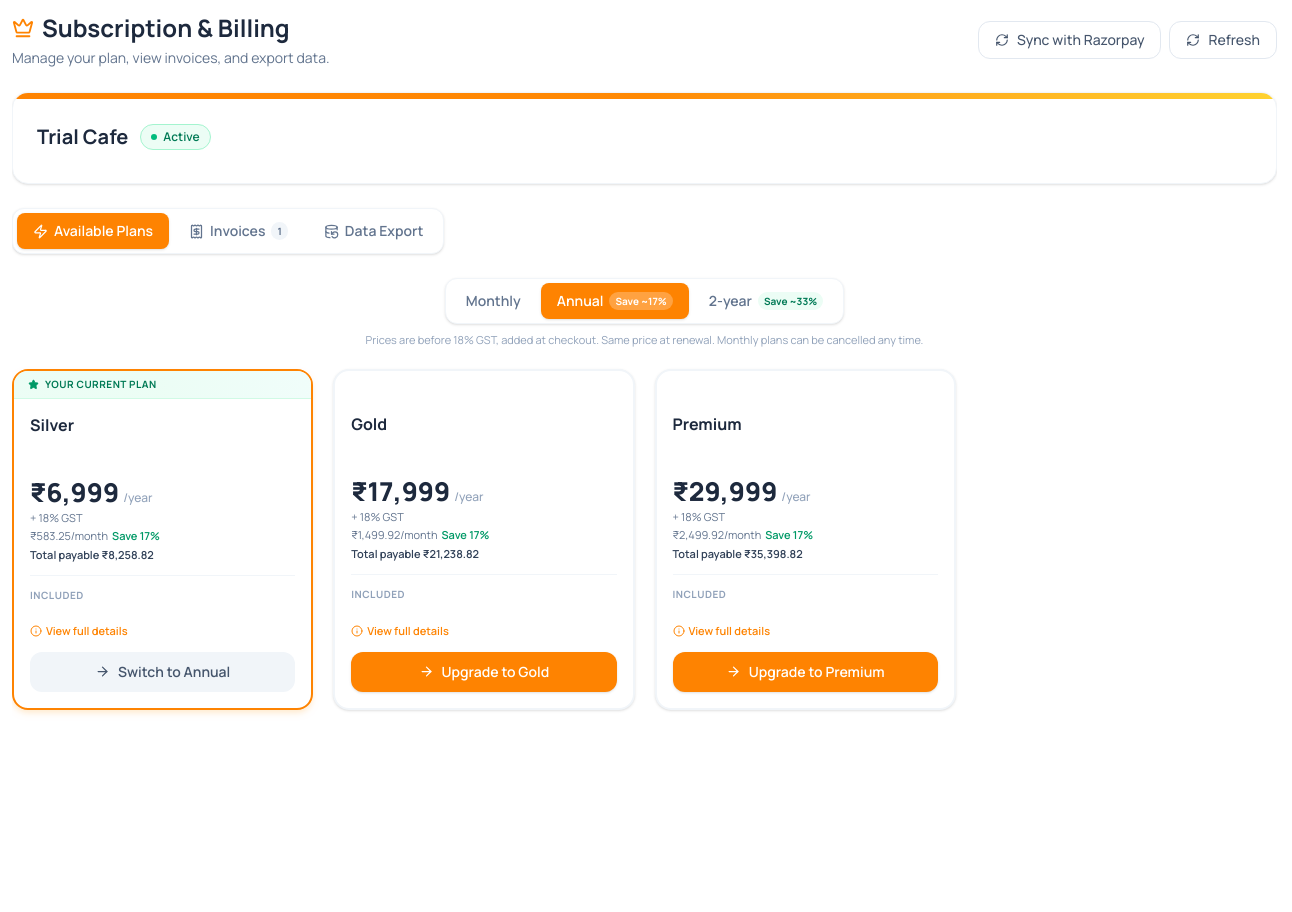
Test: invoices › list shows cycle, base, GST and total
The image size is (1292, 912).
Expected: the text "₹17,999" is shown, [351,478,450,504]
Click the button "Invoices 1".
click(238, 231)  # box [173,213,304,249]
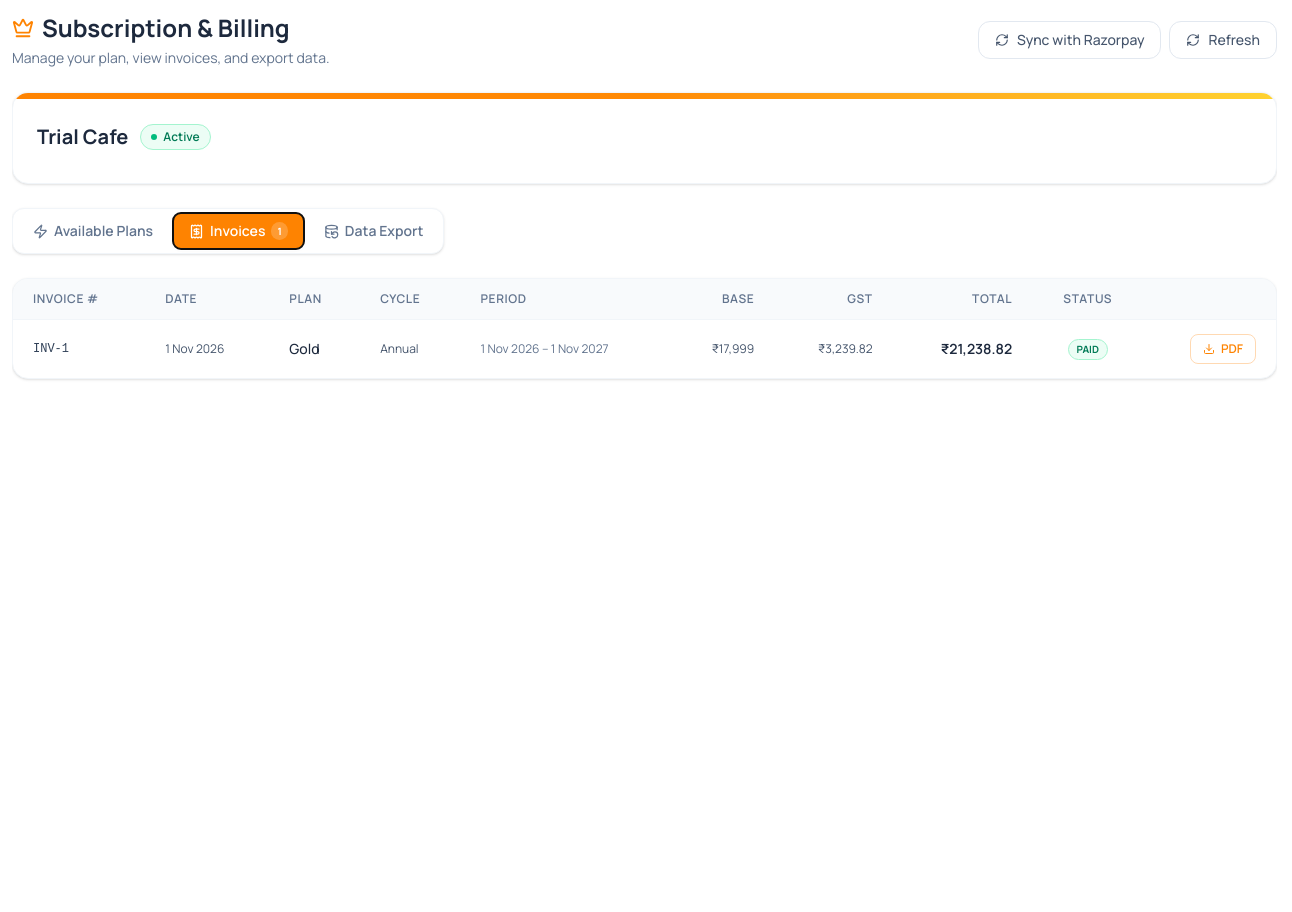
Expected: the text "Annual" is shown, [360,320,460,378]
Expected: the text "₹3,239.82" is shown, [774,320,893,378]
